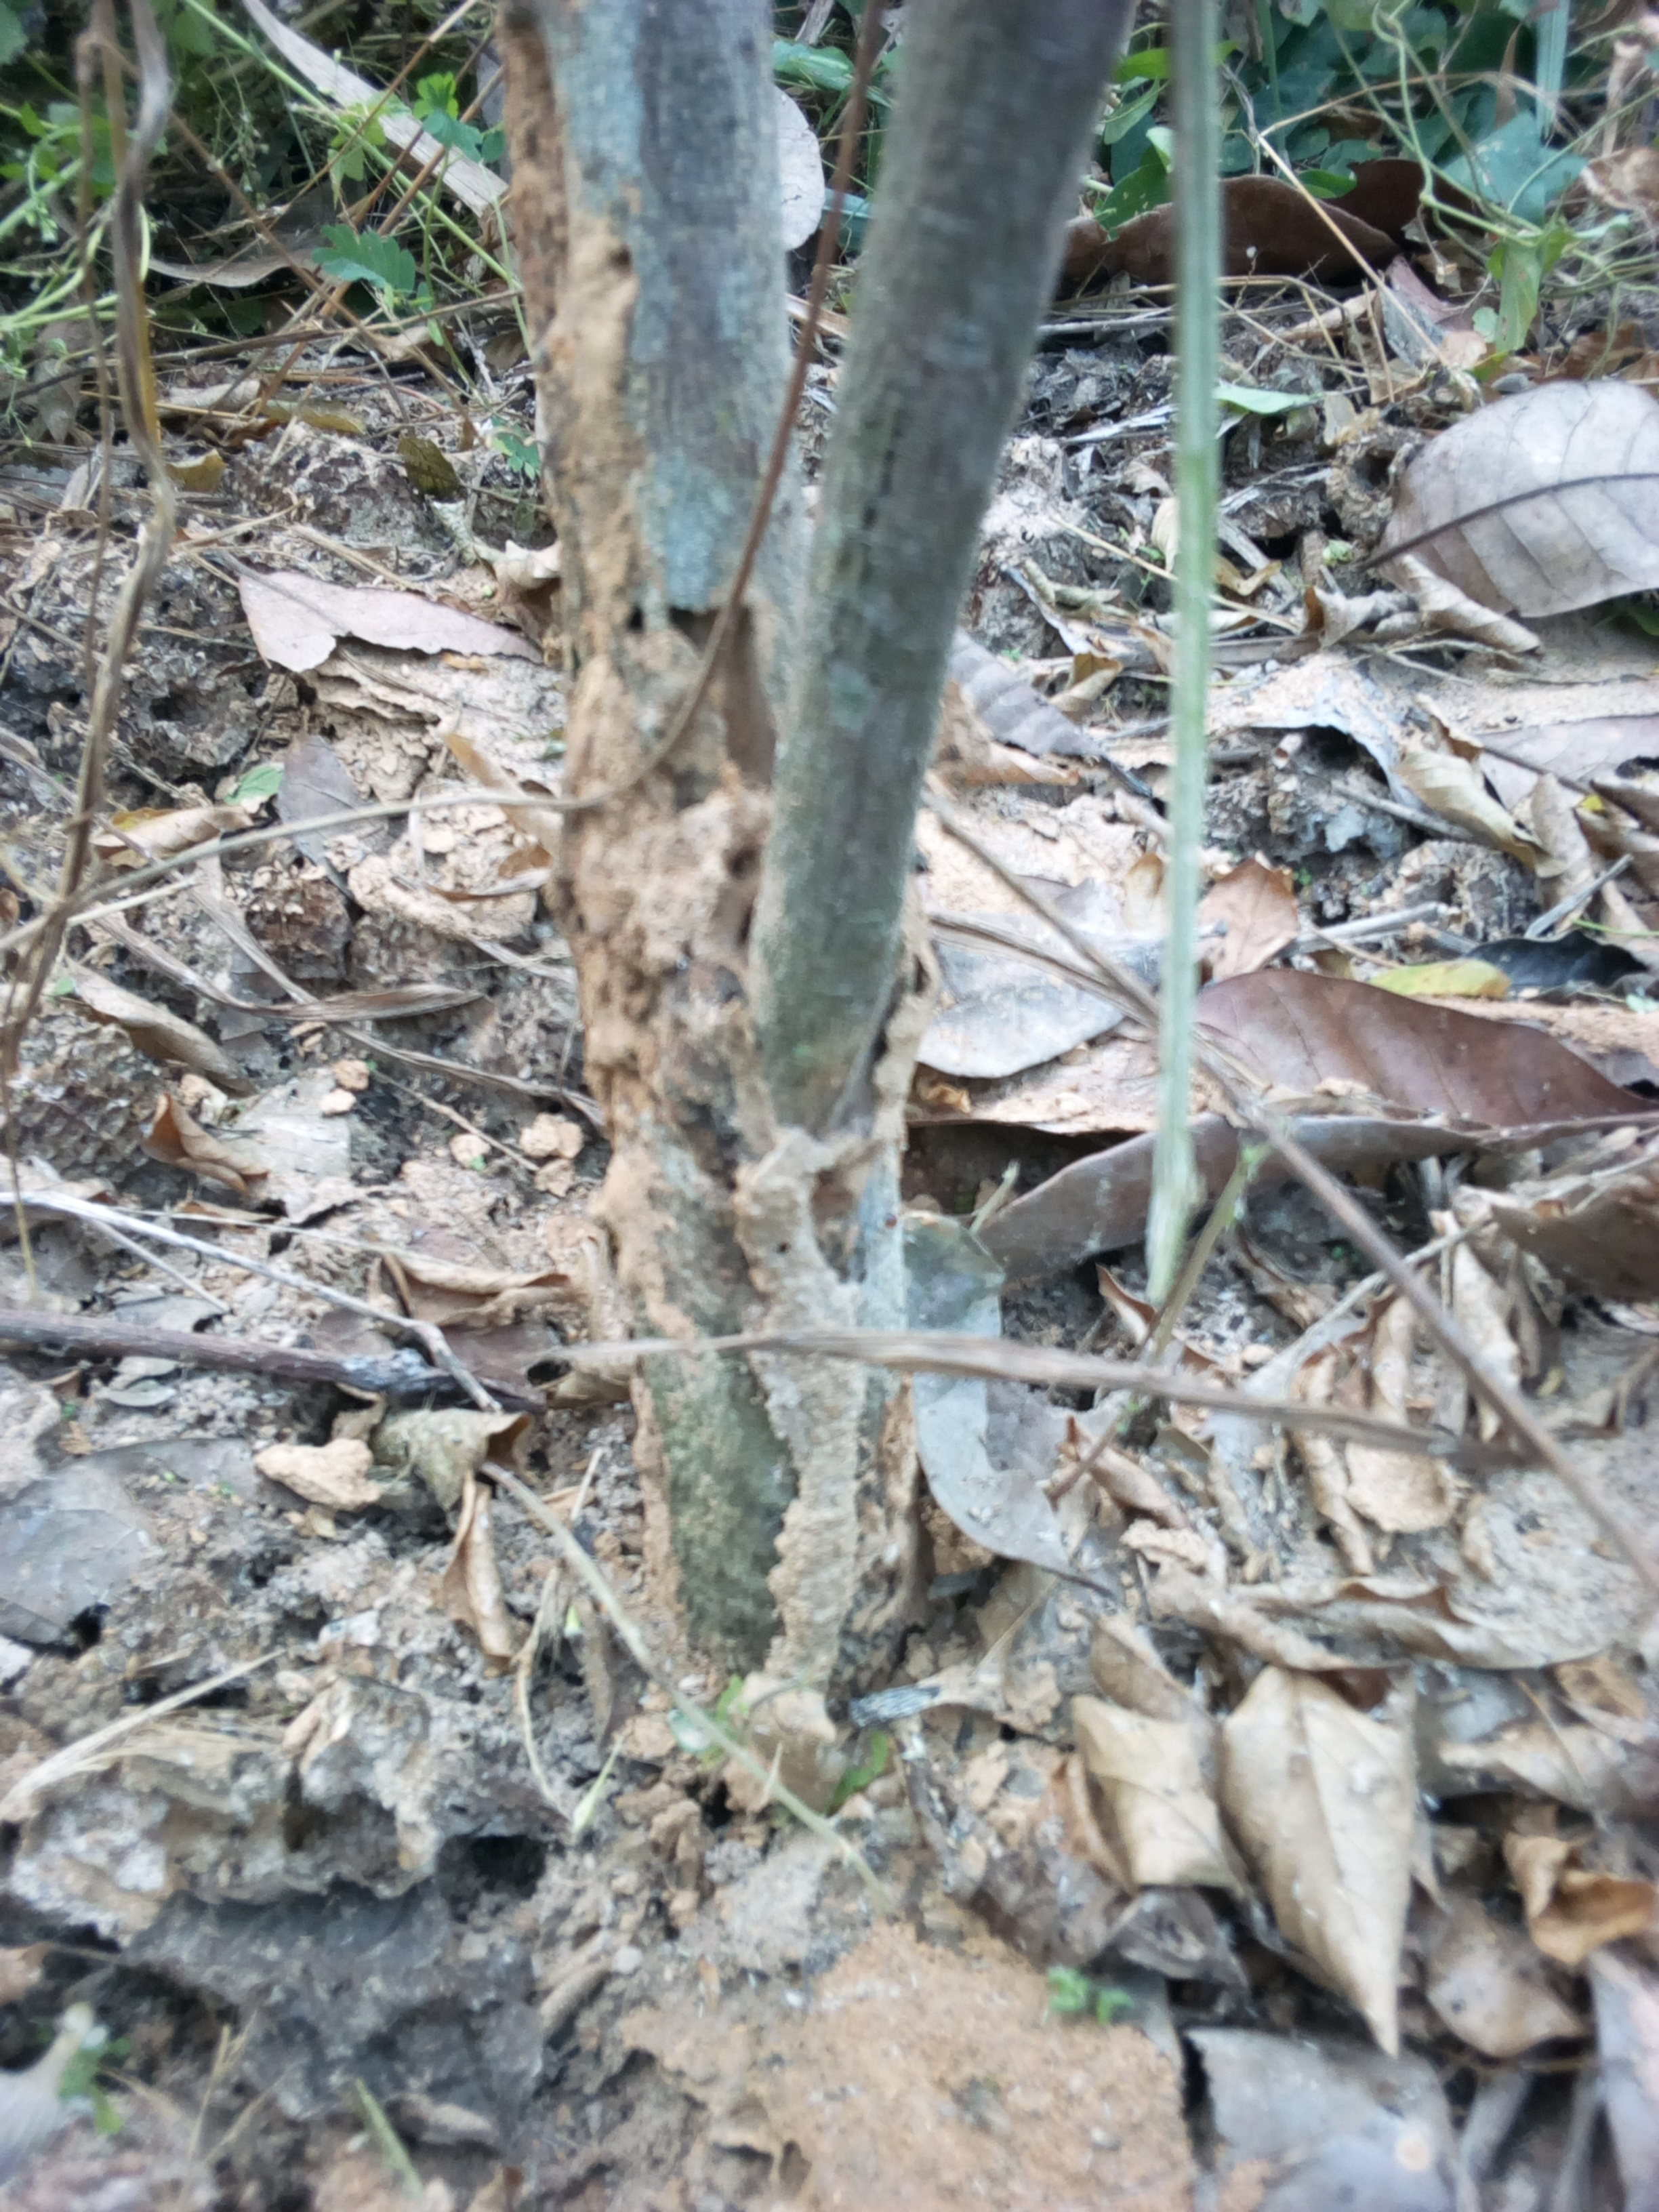Termites: (554, 171, 769, 1204), (748, 1195, 870, 1716)
